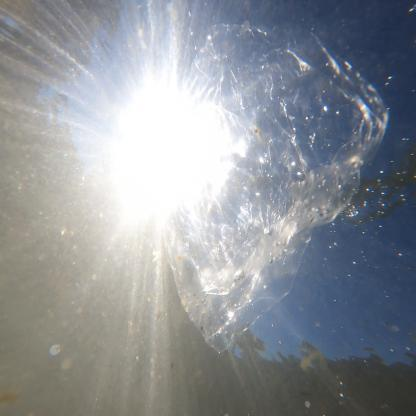Rác: (167, 23, 389, 348)
